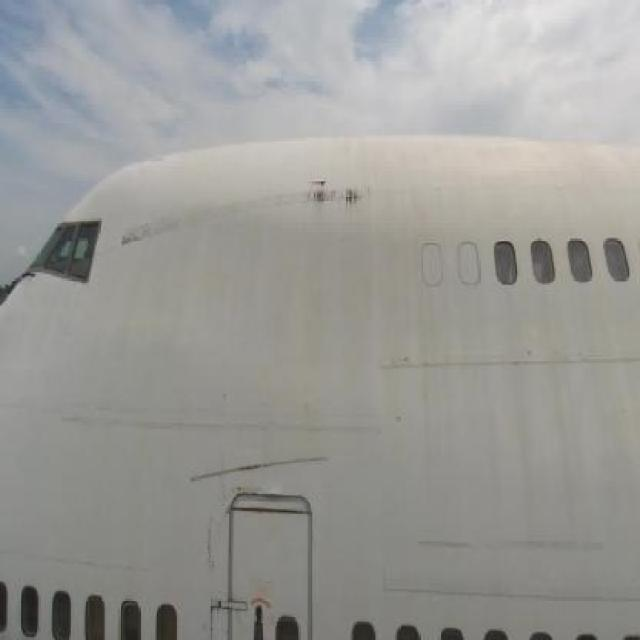Rust: (301, 161, 368, 219)
Scartch: (115, 220, 162, 257), (201, 516, 219, 576), (218, 489, 236, 525), (242, 459, 268, 481)
